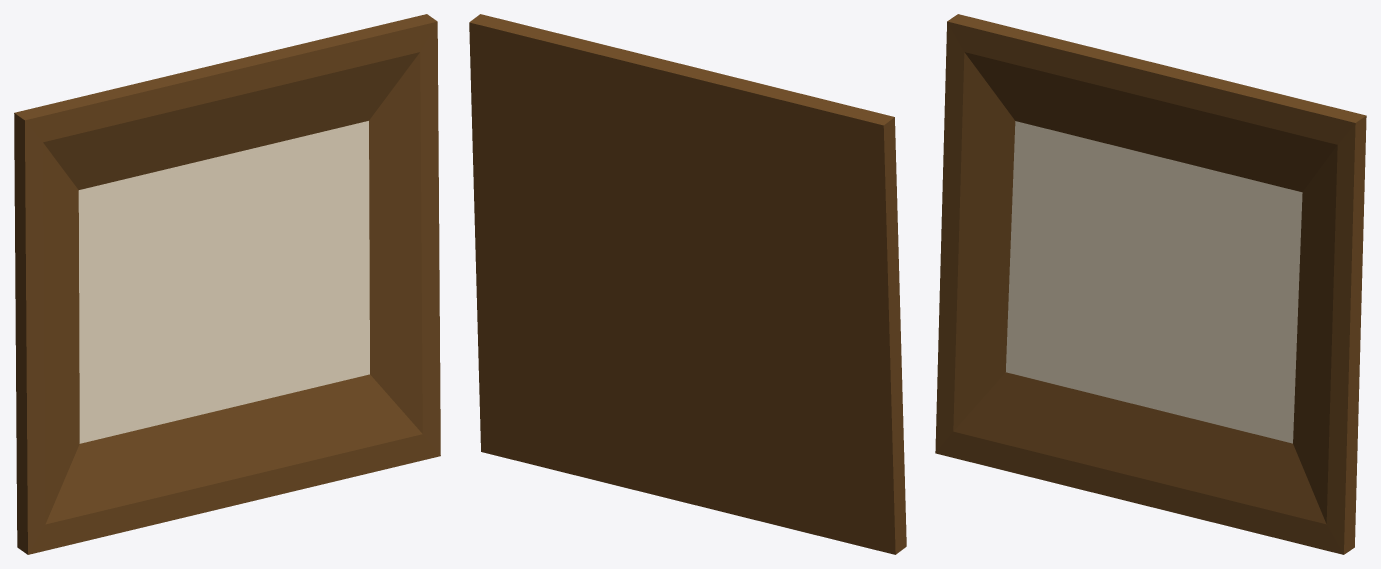
File: MemorialRoom_Picture_frame_small.fbx
The picture shows the model from 3 angles, left to right: view 1: azimuth 30°, elevation 25°; view 2: azimuth 150°, elevation 25°; view 3: azimuth 330°, elevation 25°; orthographic projection.
Visible parts, largest first — view 1: Picture.011; view 2: Picture.011; view 3: Picture.011.
Part boxes in pixels (x1,y1,x2,y2): Picture.011: (14, 14, 440, 554); Picture.011: (469, 14, 906, 554); Picture.011: (935, 14, 1366, 554).
Size of the model in its own units: 236 by 233 by 19.93.
